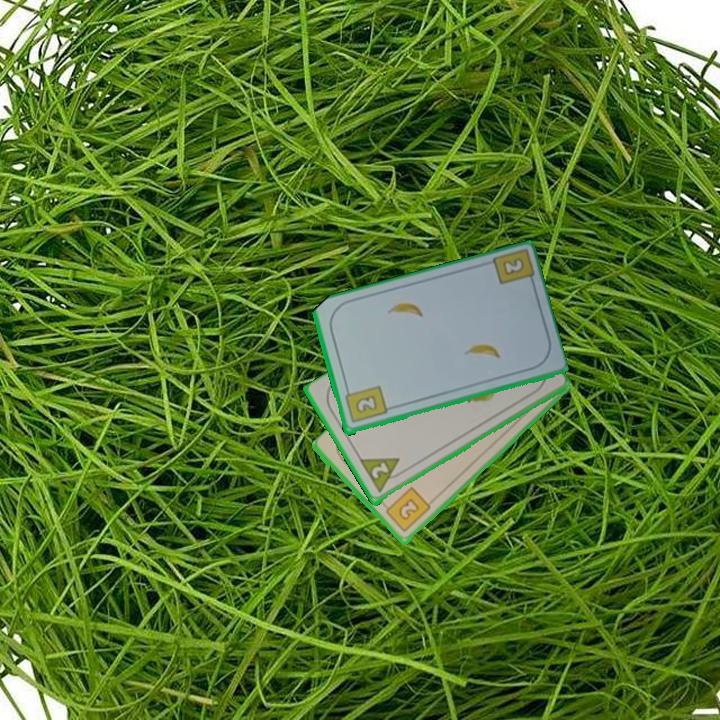2b: (379, 484, 433, 535), (341, 383, 389, 426), (499, 254, 527, 278)
2p: (357, 454, 409, 496)
